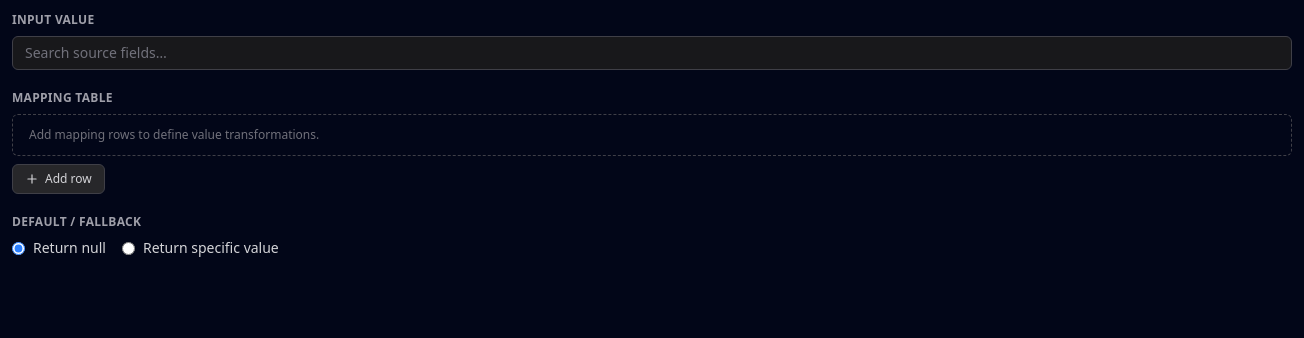
Test: ValueMapModeBuilder — mapping table › [+ Add row] appends an empty row
Step 1. Click the button with test id "value-map-add-row-btn" → (58, 179), box [12,164,105,194]
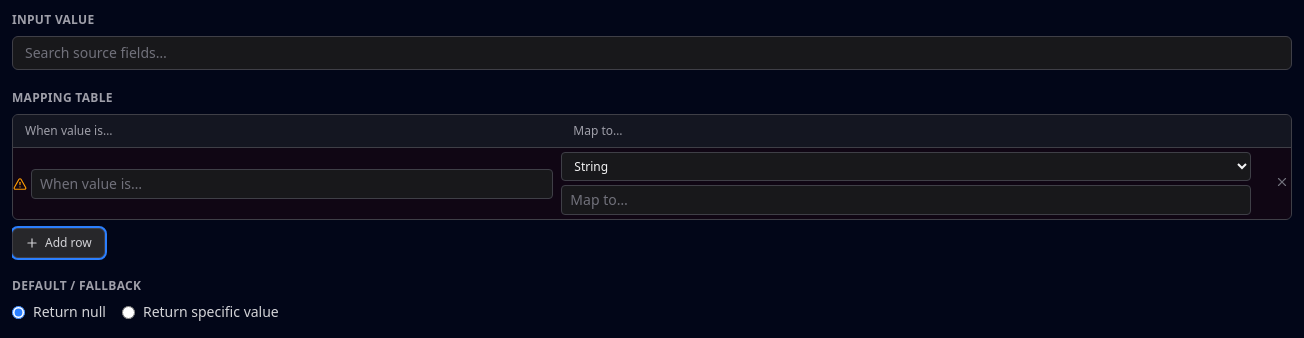
Expected: the row with test id "value-map-row-0" is shown, [13,148,1291,219]
Expected: the text with test id "value-map-empty-state" is gone
